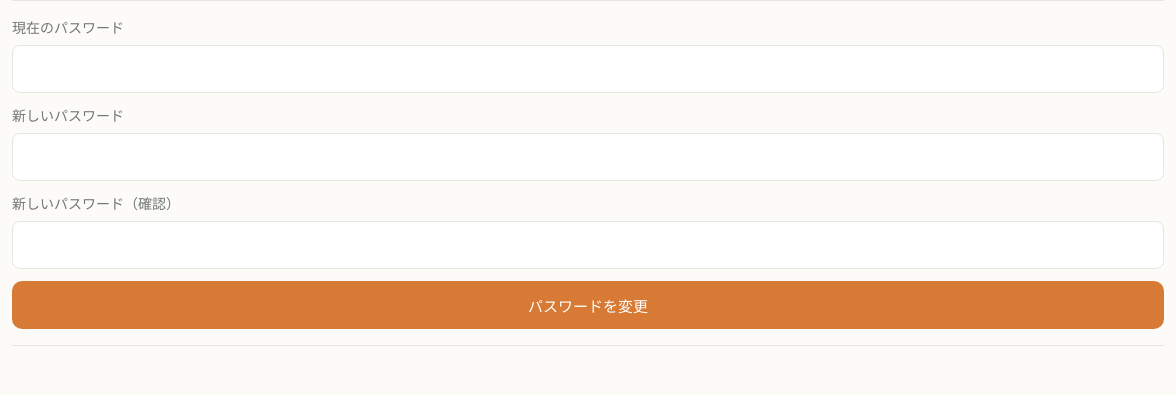
Test: Account password settings › validates confirmation before sending
In the password field labelled "現在のパスワード": (588,69) 12,45 -> 1164,93, type "old-password"
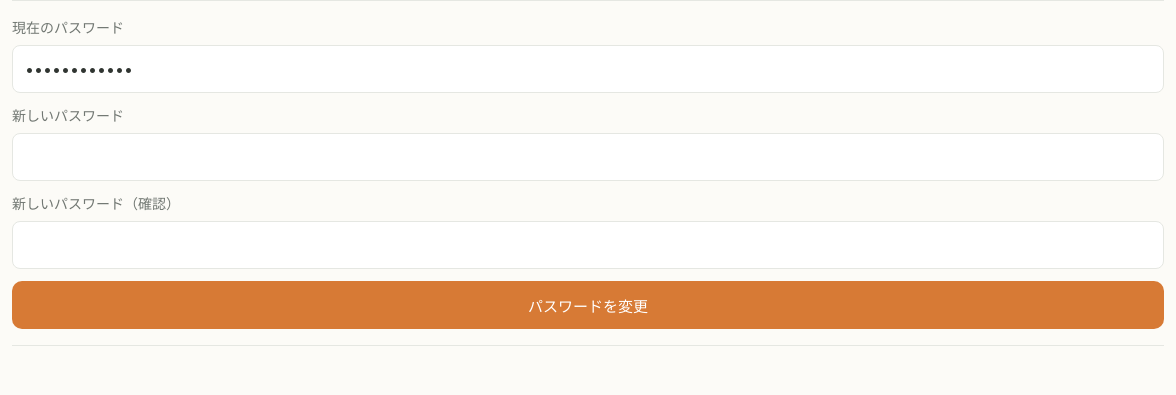
In the password field labelled "新しいパスワード": (588,157) 12,133 -> 1164,181, type "new-password-123"
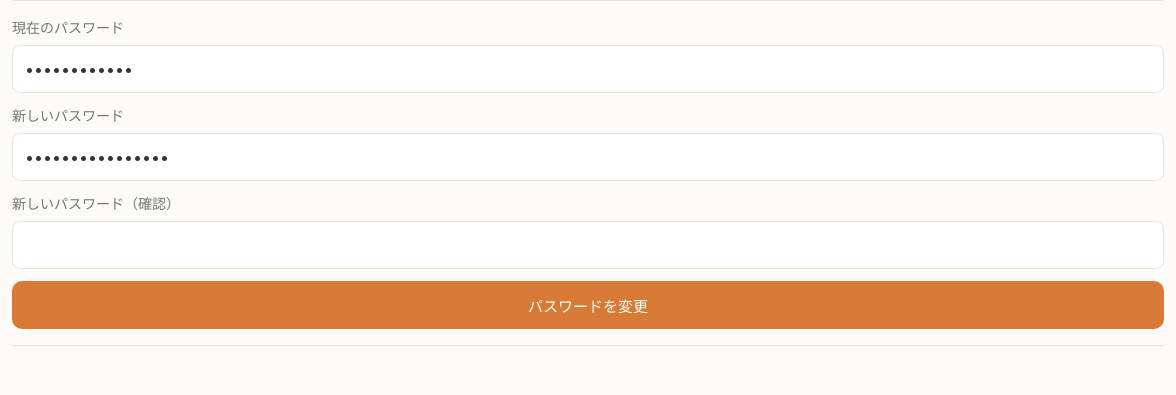
In the password field labelled "新しいパスワード（確認）": (588,245) 12,221 -> 1164,269, type "different-password"
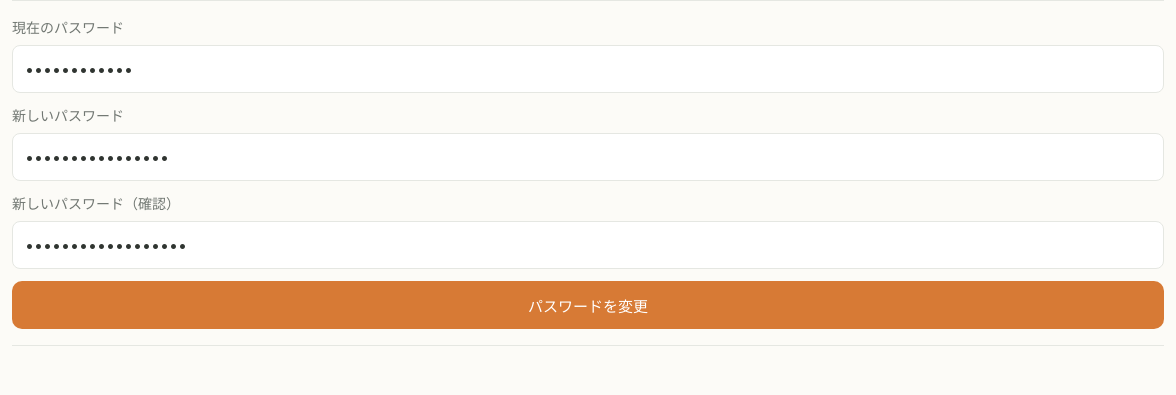
Click the button "パスワードを変更": (588,305) 12,281 -> 1164,329
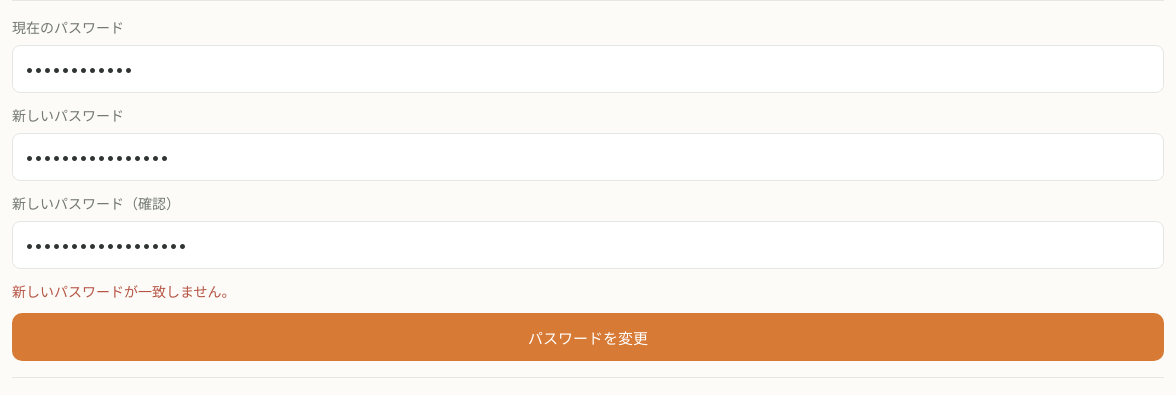
Now the message reads "新しいパスワードが一致しません。", box 12,283 -> 236,300
